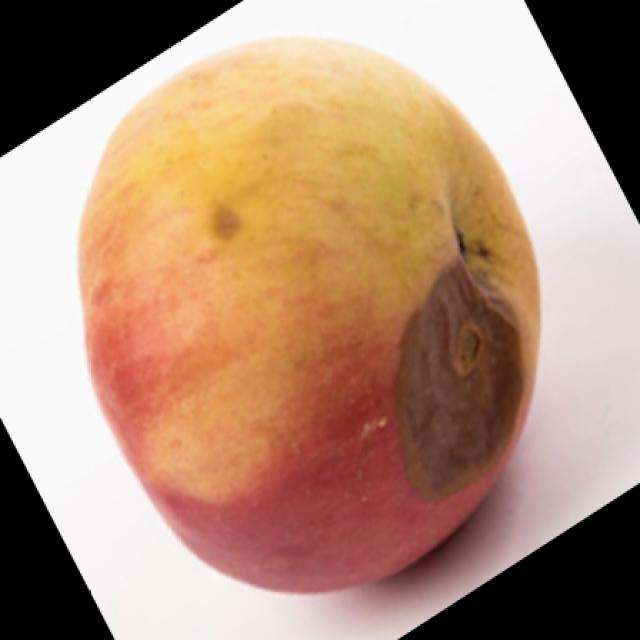Rotten: (82, 33, 540, 595)
